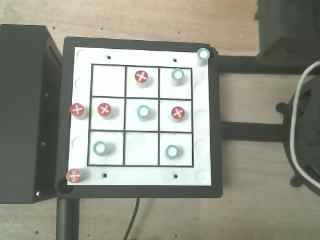blue circle: (93, 141, 108, 156), (137, 105, 151, 119), (172, 68, 184, 81), (166, 145, 178, 158), (197, 48, 210, 60)
board: (66, 47, 211, 185)
cells: (89, 132, 123, 164), (125, 132, 157, 165), (91, 97, 123, 129), (160, 133, 191, 165), (92, 65, 124, 96), (159, 100, 191, 131), (126, 99, 157, 130), (126, 67, 158, 97), (160, 68, 191, 98)
grid: (87, 64, 193, 167)
red cross: (66, 169, 81, 183), (135, 70, 149, 83), (70, 103, 84, 116), (97, 103, 111, 116), (171, 106, 184, 119)
